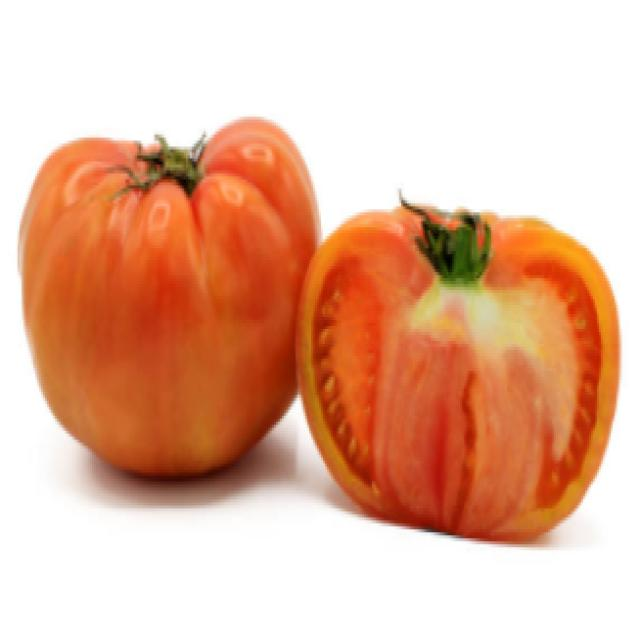Tomato: (297, 193, 619, 544), (34, 122, 319, 468)
